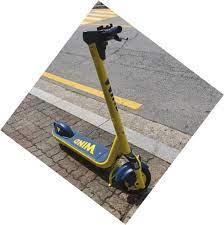kick_handler: (84, 25, 125, 53)
kick_neck: (96, 63, 127, 138)
kick_wheel: (116, 163, 151, 192), (52, 121, 68, 146)
